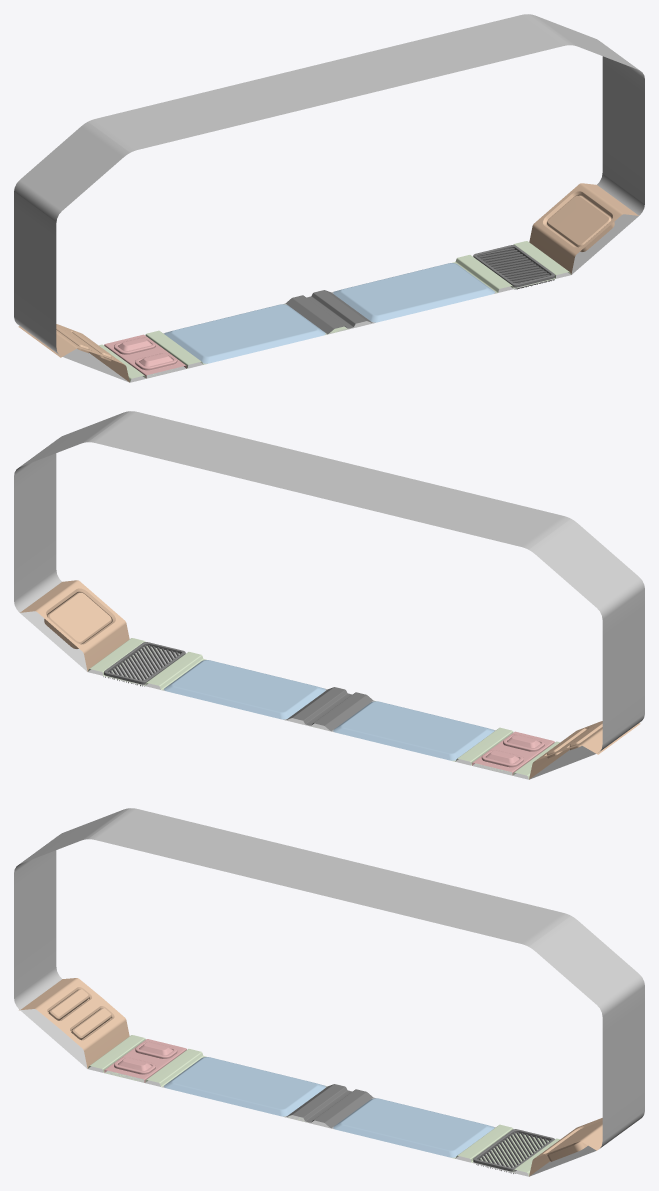
The model's file is MOD_1a.fbx.
3 renders of one model, top to bottom at view 1: azimuth 30°, elevation 25°; view 2: azimuth 150°, elevation 25°; view 3: azimuth 330°, elevation 25°, orthographic.
Parts seen in each view (by area): view 1: MOD_1a; view 2: MOD_1a; view 3: MOD_1a.
Part boxes in pixels (x1,y1,x2,y2): MOD_1a: [14, 14, 644, 382]; MOD_1a: [14, 411, 644, 779]; MOD_1a: [14, 808, 644, 1176].
Size of the model in its own units: 8 by 3.03 by 1.
